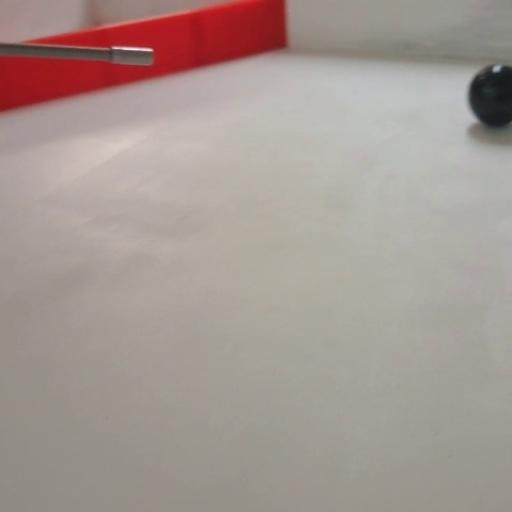dead: (466, 62, 512, 126)
